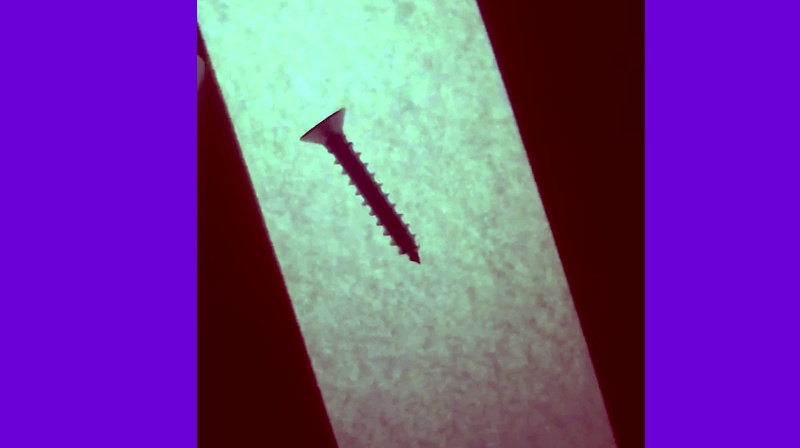S001: (296, 105, 424, 266)
